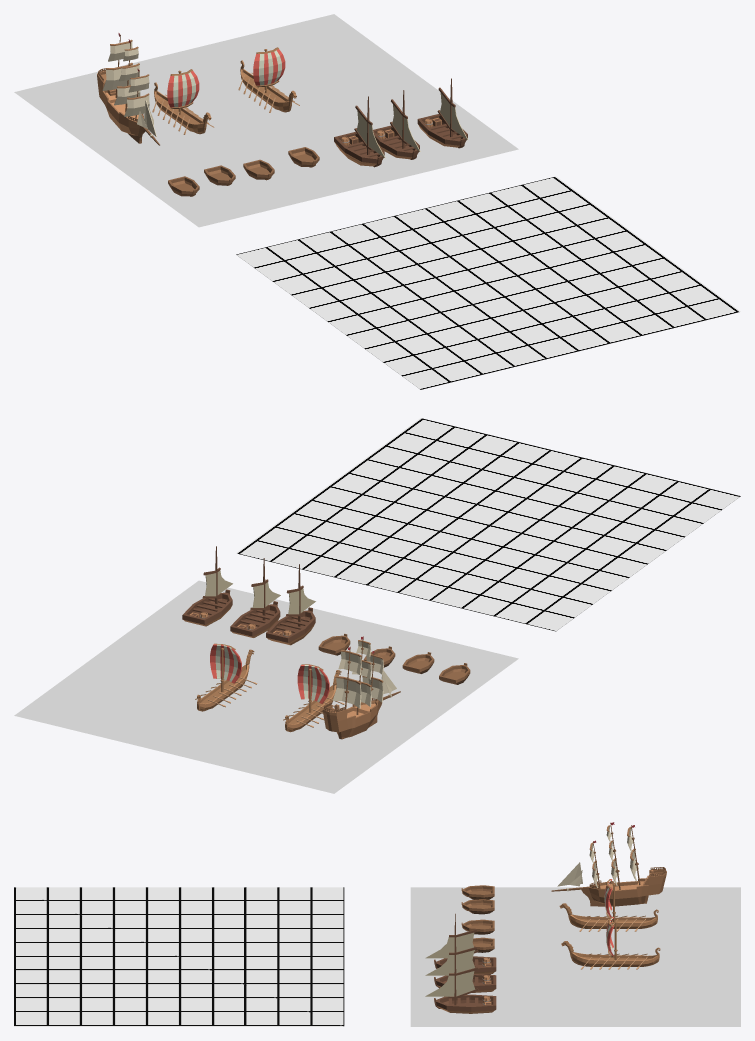
The model's file is arragement.gltf.
3 views of the same model, one above another, from view 1: azimuth 30°, elevation 25°; view 2: azimuth 150°, elevation 25°; view 3: azimuth 270°, elevation 25° (orthographic). The views are drawn at different scales.
Visible parts, largest first — view 1: Plane.001, Plane.002, FourDeck, threeDeck, threeDeck1, twoDeck3, twoDeck3002, twoDeck3001; view 2: Plane.001, Plane.002, FourDeck, threeDeck1, threeDeck, twoDeck3, twoDeck3002, twoDeck3001; view 3: Plane.001, Plane.002, FourDeck, twoDeck3002, threeDeck1, threeDeck, twoDeck3001, twoDeck3, oneDeck2, oneDeck1, oneDeck3.
Part boxes in pixels (left/top/right/bottom): Plane.001: left=236, top=176, right=740, bottom=389; Plane.002: left=14, top=14, right=518, bottom=227; FourDeck: left=97, top=33, right=159, bottom=145; threeDeck: left=152, top=69, right=214, bottom=134; threeDeck1: left=238, top=47, right=299, bottom=112; twoDeck3: left=334, top=96, right=385, bottom=167; twoDeck3002: left=417, top=78, right=467, bottom=148; twoDeck3001: left=373, top=90, right=420, bottom=159; Plane.001: left=236, top=418, right=740, bottom=631; Plane.002: left=14, top=580, right=518, bottom=793; FourDeck: left=323, top=636, right=400, bottom=739; threeDeck1: left=195, top=643, right=257, bottom=711; threeDeck: left=283, top=664, right=344, bottom=732; twoDeck3: left=266, top=564, right=315, bottom=645; twoDeck3002: left=182, top=546, right=232, bottom=626; twoDeck3001: left=230, top=558, right=280, bottom=637; Plane.001: left=14, top=887, right=344, bottom=1026; Plane.002: left=410, top=887, right=740, bottom=1026; FourDeck: left=551, top=822, right=666, bottom=906; twoDeck3002: left=425, top=952, right=496, bottom=1013; threeDeck1: left=561, top=916, right=660, bottom=969; threeDeck: left=559, top=879, right=658, bottom=931; twoDeck3001: left=425, top=931, right=496, bottom=992; twoDeck3: left=425, top=913, right=496, bottom=974; oneDeck2: left=461, top=899, right=494, bottom=914; oneDeck1: left=461, top=885, right=494, bottom=899; oneDeck3: left=461, top=919, right=494, bottom=934.
Bounding box in the file's own units: 10 × 2.89 × 22.
Materials: 36 (1 with a texture image).
